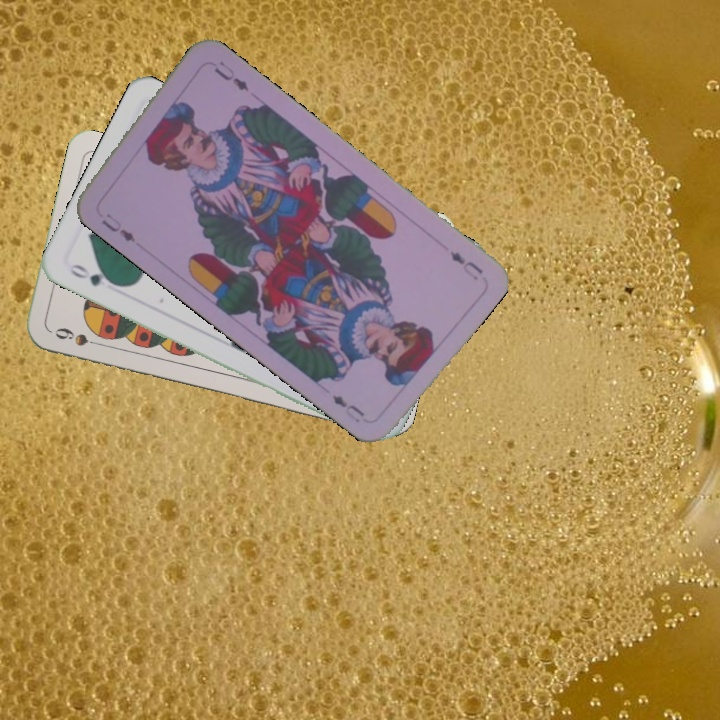EU: (97, 209, 138, 246), (446, 247, 486, 284)
GO: (65, 259, 121, 289)
S9: (51, 323, 107, 350)
